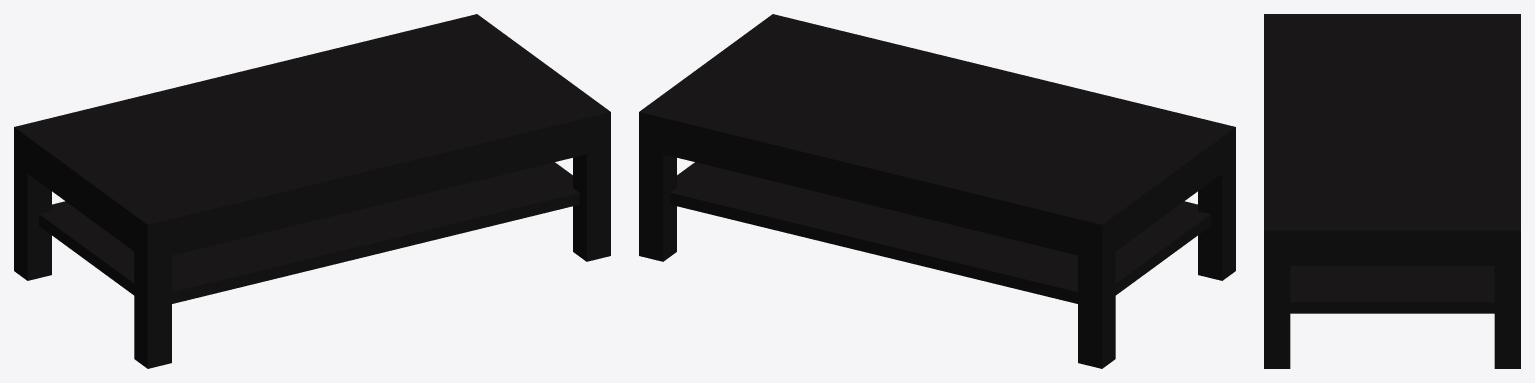
The model's file is Prop_Table_10.fbx.
The picture shows the model from 3 angles, left to right: view 1: azimuth 30°, elevation 25°; view 2: azimuth 150°, elevation 25°; view 3: azimuth 270°, elevation 25°; orthographic projection. The views are drawn at different scales.
Parts seen in each view (by area): view 1: Prop_Table_10; view 2: Prop_Table_10; view 3: Prop_Table_10.
Boxes of the visible parts, x1=… form: Prop_Table_10: x1=14, y1=14, x2=610, y2=368; Prop_Table_10: x1=639, y1=14, x2=1235, y2=368; Prop_Table_10: x1=1264, y1=14, x2=1520, y2=368.
Size of the model in its own units: 200 by 59.39 by 100.
